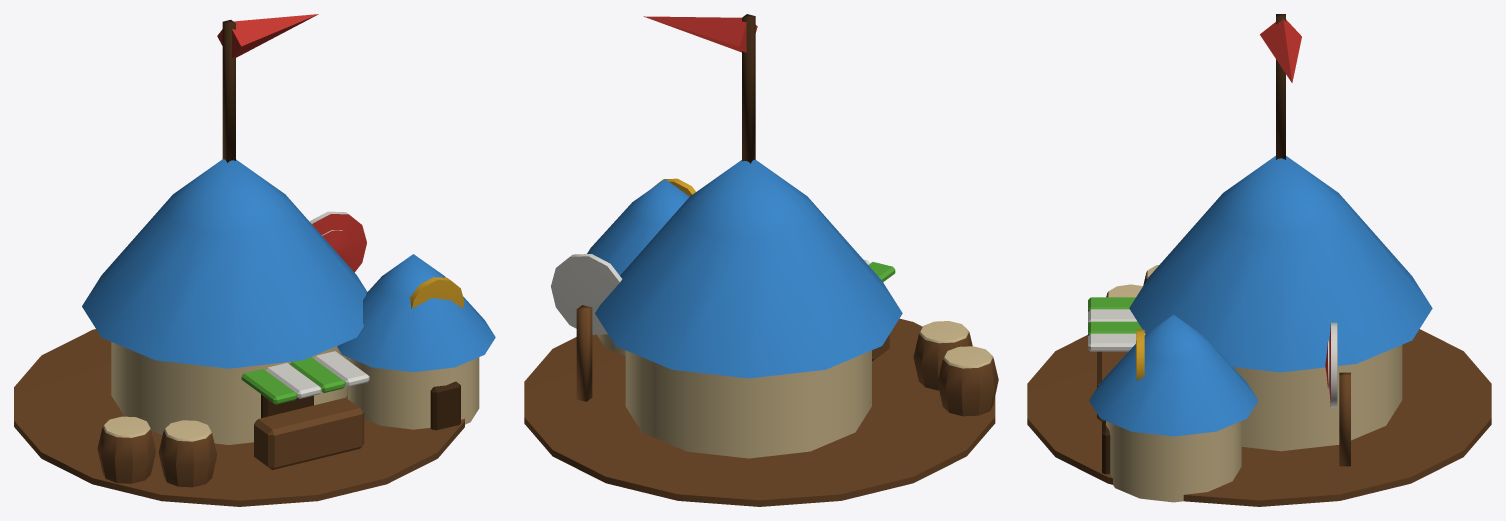
3 renders of one model, left to right at view 1: azimuth 30°, elevation 25°; view 2: azimuth 150°, elevation 25°; view 3: azimuth 270°, elevation 25°, orthographic. The views are drawn at different scales.
Visible parts, largest first — view 1: vila_0_base; view 2: vila_0_base; view 3: vila_0_base.
Part boxes in pixels (x1,y1,x2,y2): vila_0_base: [14, 14, 495, 506]; vila_0_base: [524, 14, 998, 506]; vila_0_base: [1027, 14, 1491, 506].
Size of the model in its own units: 1.34 by 1.21 by 1.3.
